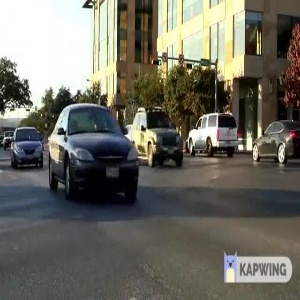car: (47, 101, 141, 194), (246, 117, 300, 168), (7, 124, 46, 170)
suv: (127, 108, 187, 168), (181, 114, 242, 154)
